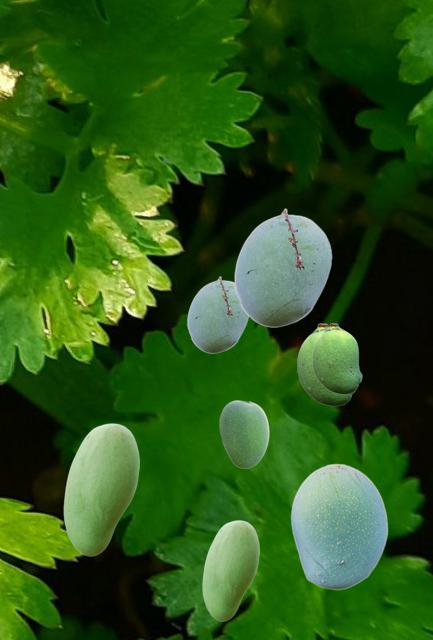green_mango: (290, 463, 387, 589), (234, 208, 331, 326), (63, 423, 138, 555), (202, 520, 258, 620), (187, 276, 248, 352), (297, 323, 353, 405), (312, 323, 361, 393), (219, 400, 268, 467)
